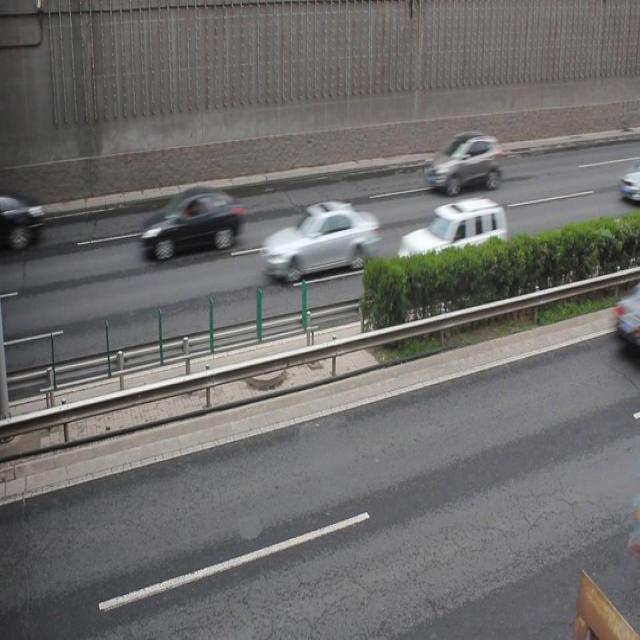car: (262, 200, 376, 278), (140, 190, 245, 260), (426, 128, 503, 191), (1, 190, 44, 249), (612, 285, 640, 346), (618, 167, 640, 202)
truck: (398, 196, 505, 278)
